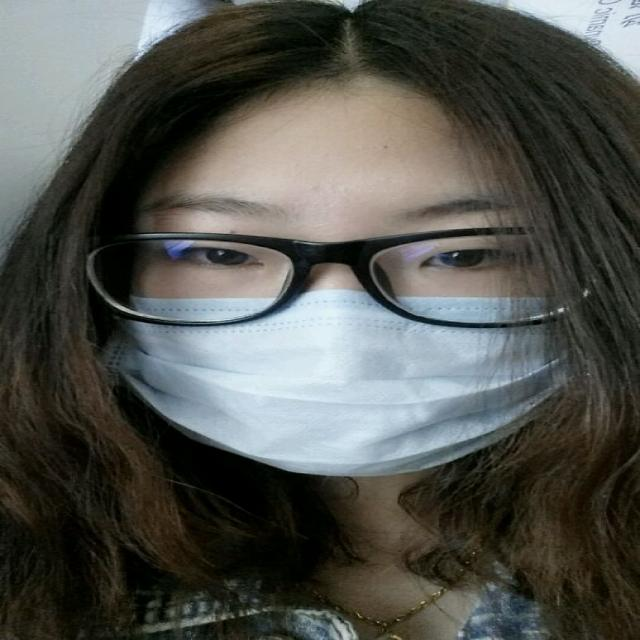mask: (121, 101, 577, 476)
